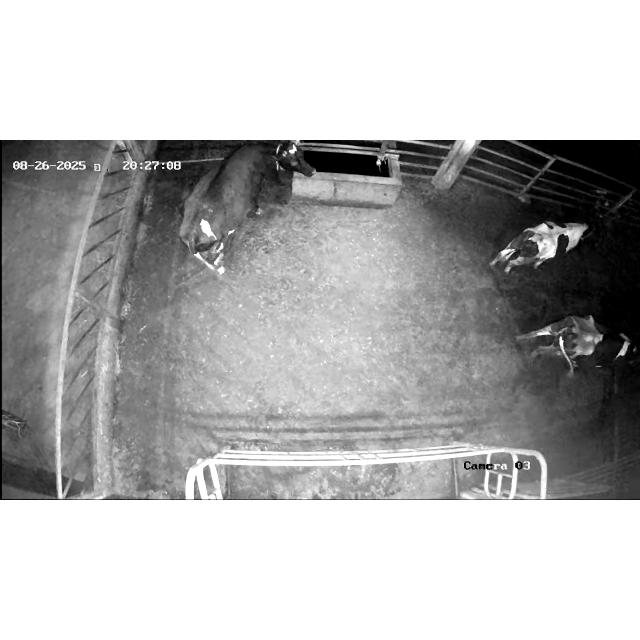stand: (179, 140, 315, 272), (515, 315, 640, 378), (490, 221, 590, 274)
